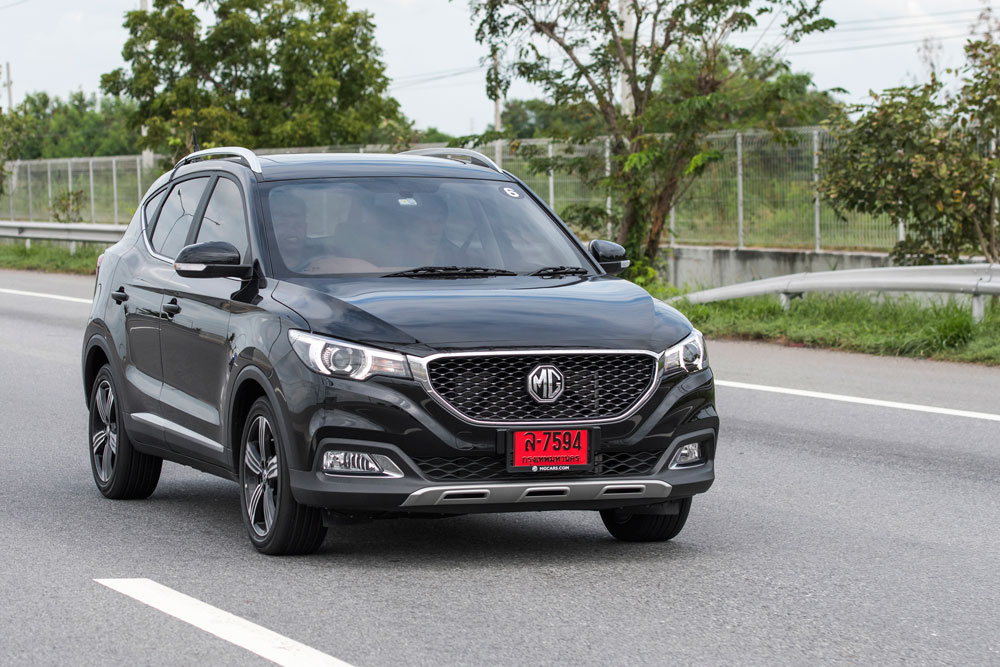pickup: (81, 142, 720, 556)
